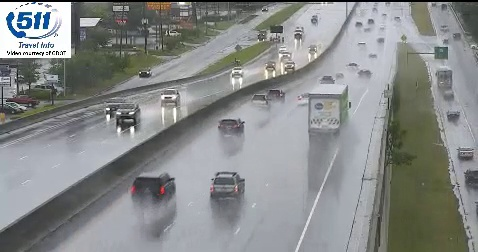car: (133, 174, 176, 203), (210, 173, 245, 200), (218, 119, 244, 138), (250, 94, 269, 110), (266, 89, 284, 103), (297, 93, 311, 104)
small-truck: (308, 83, 349, 135)
